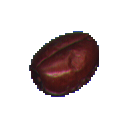ng: (23, 26, 107, 102)
